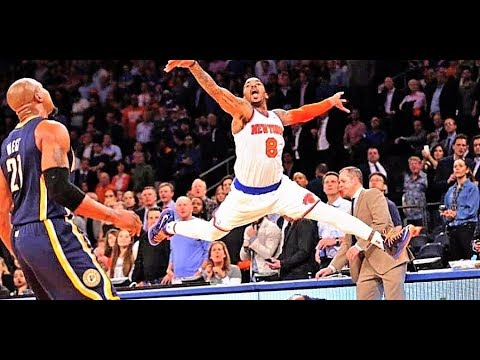run: (143, 54, 416, 259)
